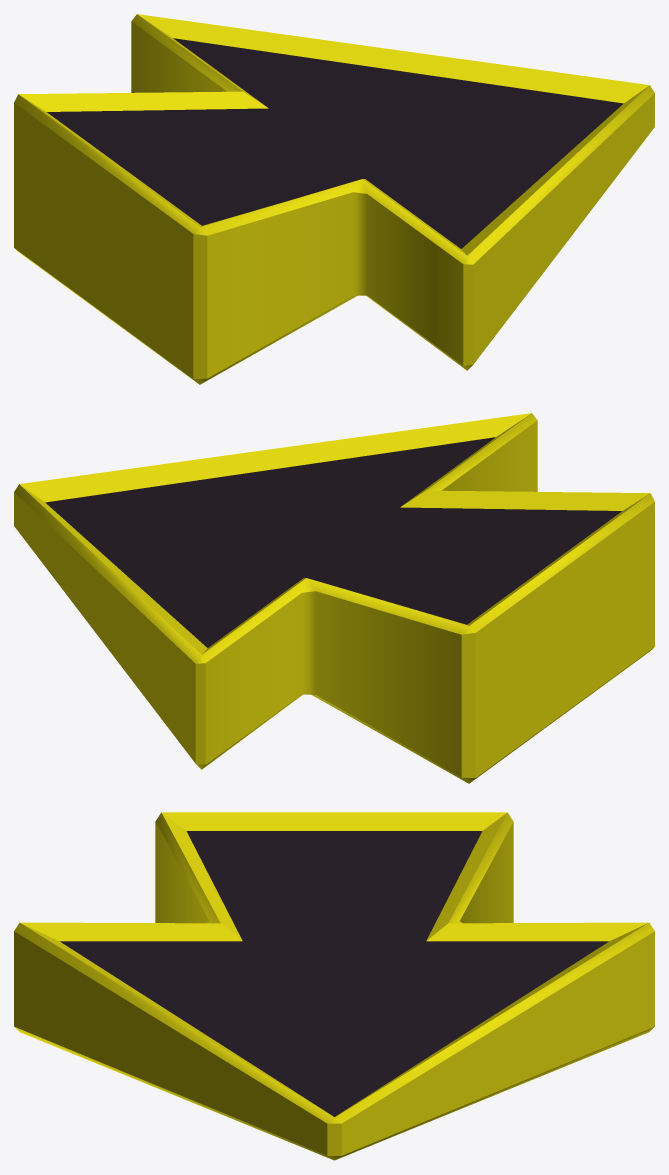
File: left.fbx
3 renders of one model, top to bottom at view 1: azimuth 30°, elevation 25°; view 2: azimuth 150°, elevation 25°; view 3: azimuth 270°, elevation 25°, orthographic. The views are drawn at different scales.
Parts seen in each view (by area): view 1: node_id5; view 2: node_id5; view 3: node_id5.
Boxes of the visible parts, x1,y1,x2,y2 form: node_id5: [14, 14, 654, 384]; node_id5: [14, 413, 654, 783]; node_id5: [14, 812, 654, 1160].
Size of the model in its own units: 0.512 by 0.141 by 0.5445.
Materials: 1 (1 with a texture image).
